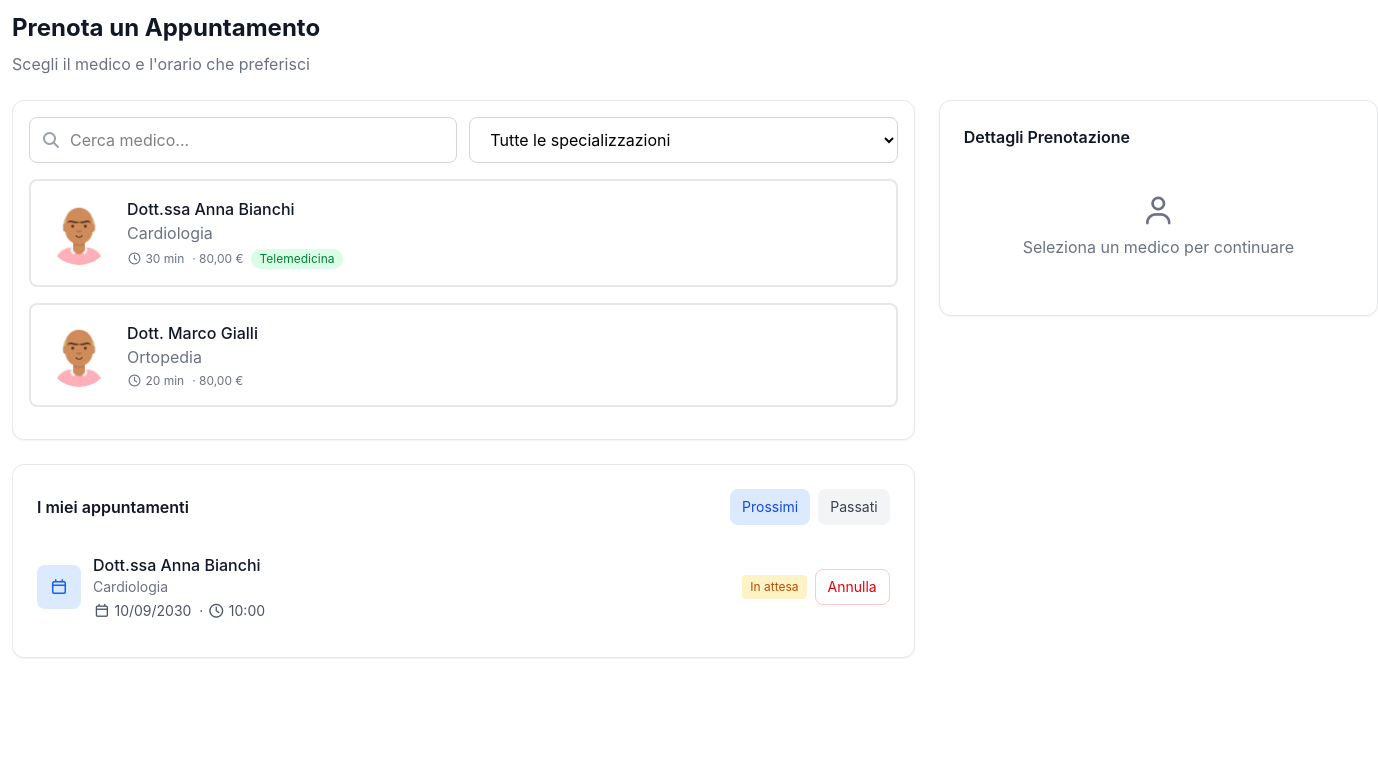
Prenotazione visite (paziente) › cambiando medico si azzerano data e slot gia scelti
Click the button that starts with "Dott.ssa Anna Bianchi" at (79, 233), box [29, 179, 898, 287]
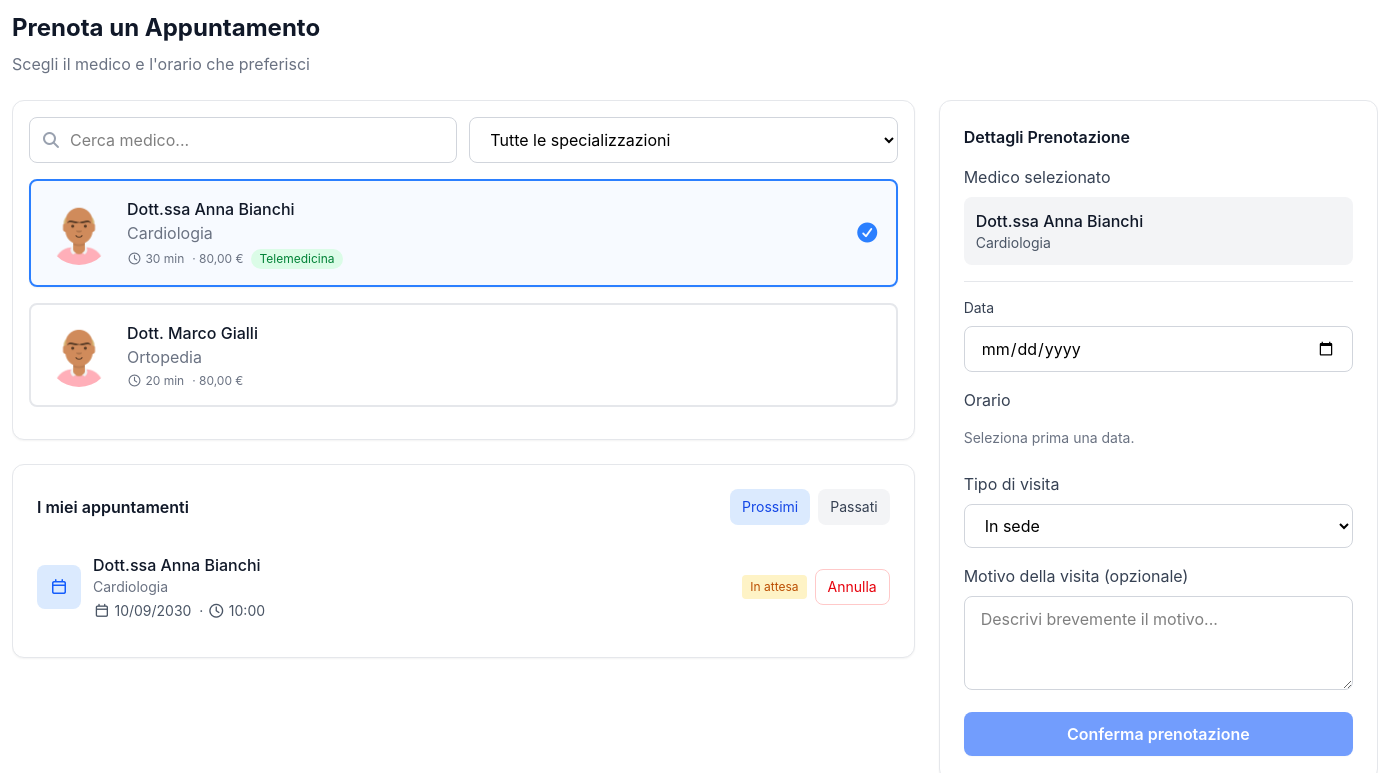
Type "2030-09-10" into the date field with id "booking-date" at (1158, 349), box [964, 326, 1353, 372]
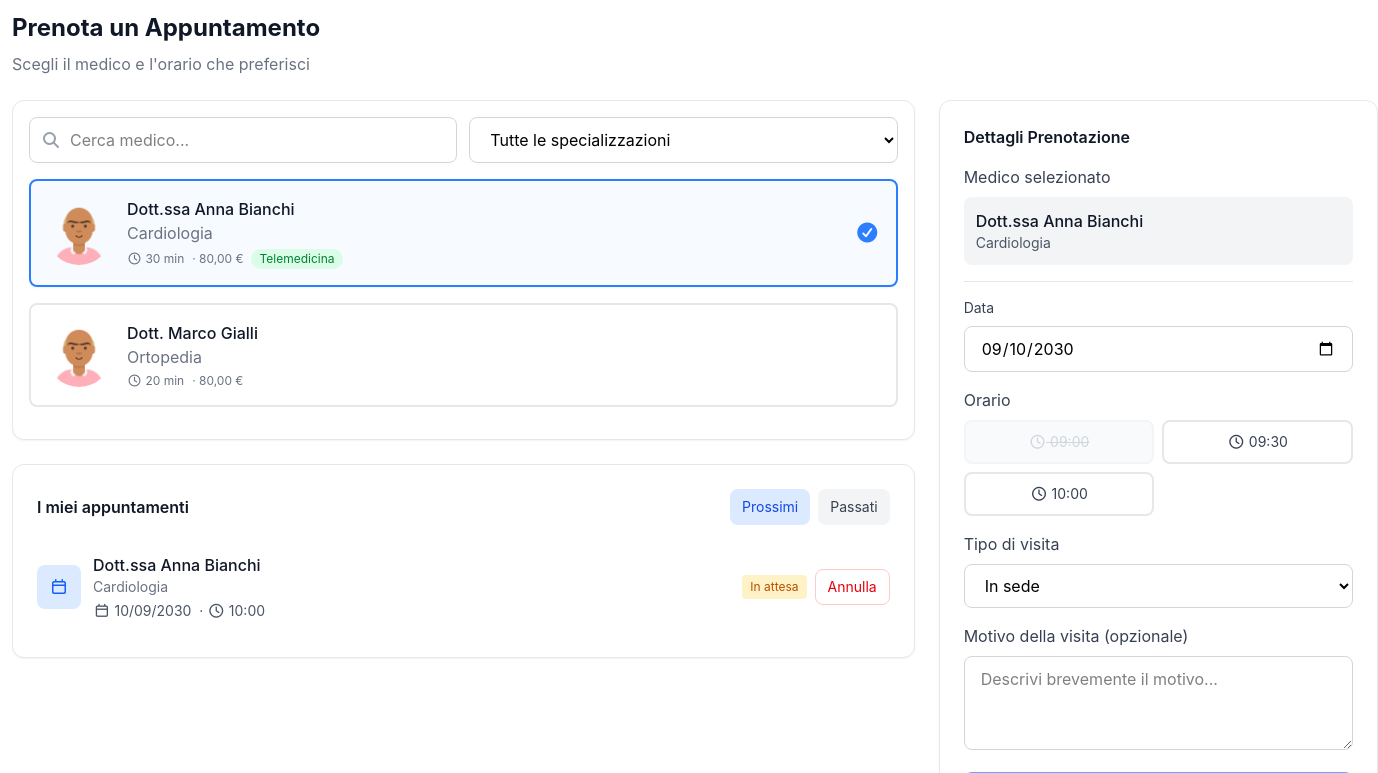
Click the button "09:30" at (1258, 442), box [1162, 420, 1353, 464]
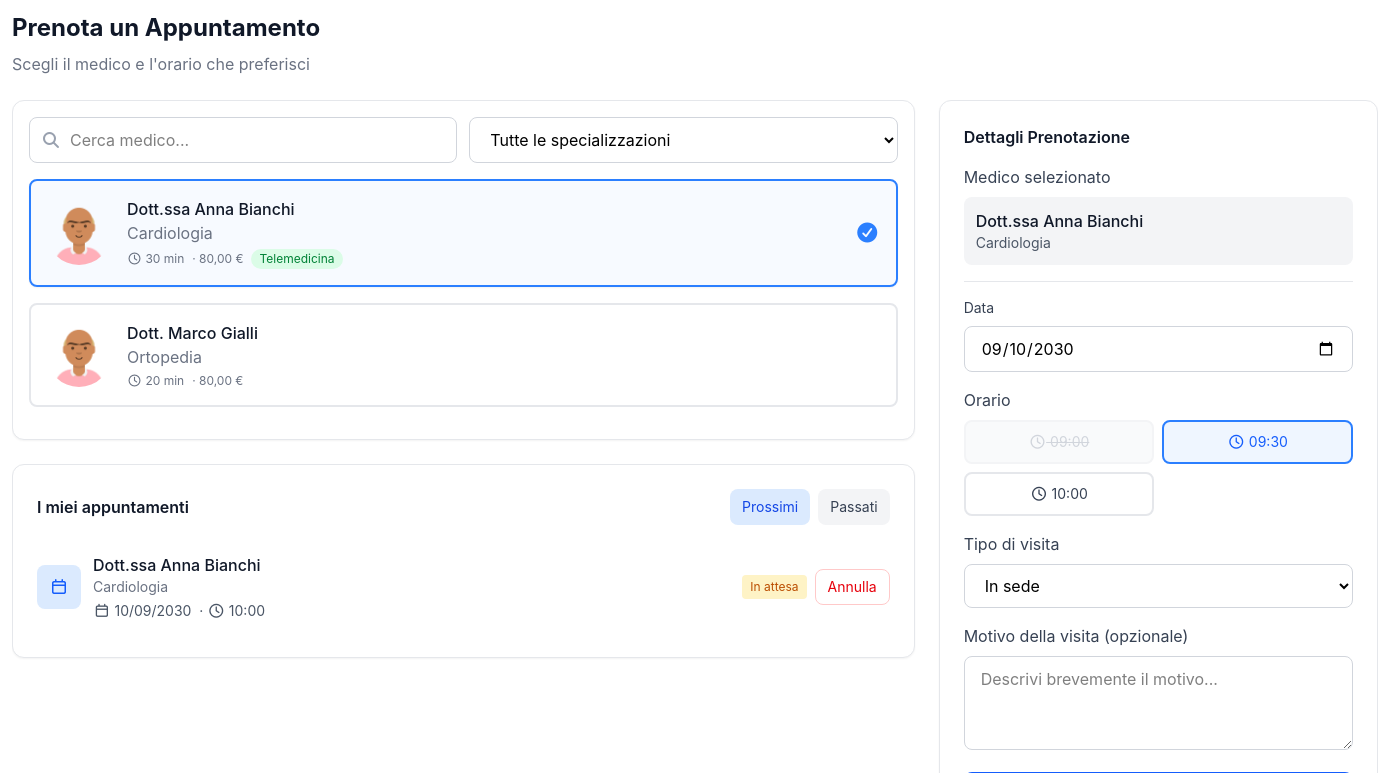
Click the button "Dott. Marco Gialli Ortopedia 20 min · 80,00 €" at (79, 355), box [29, 303, 898, 407]
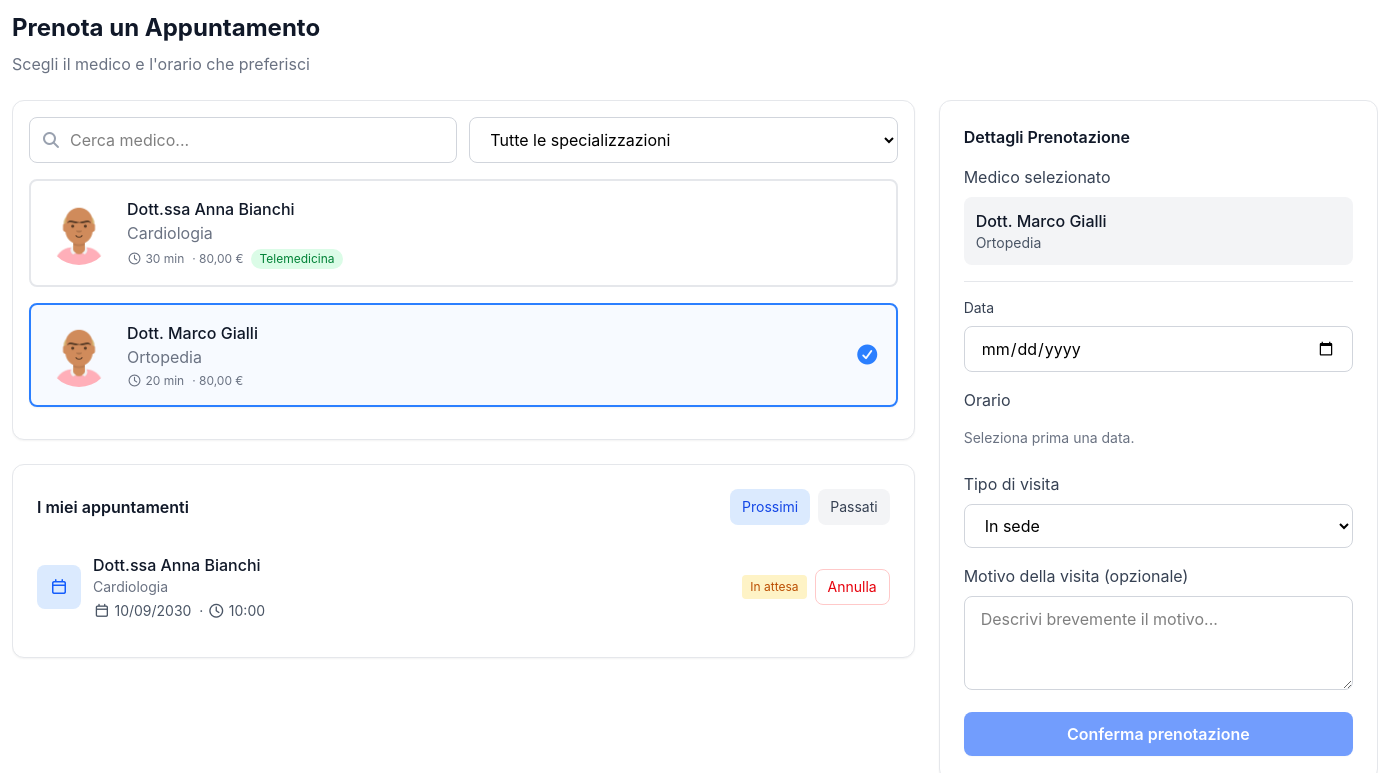
Check: the date field with id "booking-date" is empty, box [964, 326, 1353, 372]
Check: the text "Seleziona prima una data." is shown, box [964, 429, 1134, 446]
